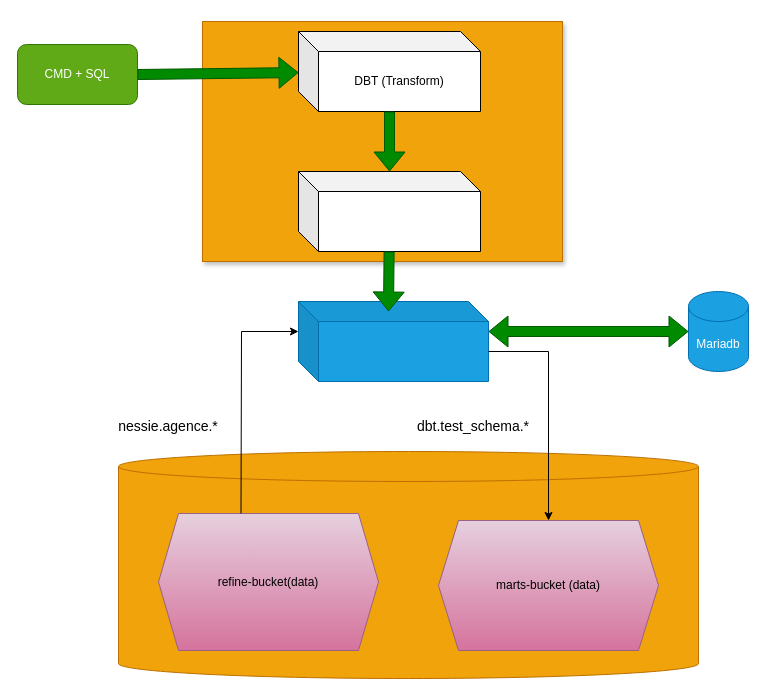
The diagram is 766 pixels wide and 696 high, and some of its shapes have lost their labels. The centre of each missing label's shape, as x and y in pixels:
"Catalog (NESSIE, metadata)" belongs at (x=393, y=341).
"Trino (SQL Query Engine)" belongs at (x=389, y=211).
